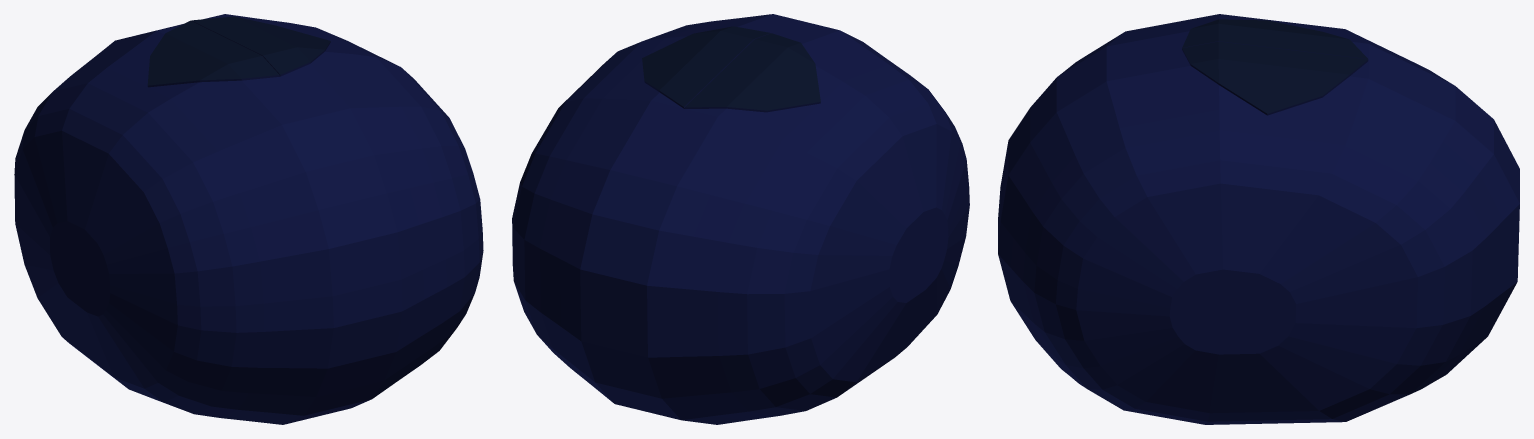
Rendered from blueberry.fbx.
3 renders of one model, left to right at view 1: azimuth 30°, elevation 25°; view 2: azimuth 150°, elevation 25°; view 3: azimuth 270°, elevation 25°, orthographic. The views are drawn at different scales.
Visible parts, largest first — view 1: Plane; view 2: Plane; view 3: Plane.
Boxes of the visible parts, bbox=[...] form: Plane: bbox=[14, 14, 483, 424]; Plane: bbox=[512, 14, 969, 424]; Plane: bbox=[998, 14, 1519, 424].
Bounding box in the file's own units: 315 × 289 × 387.
